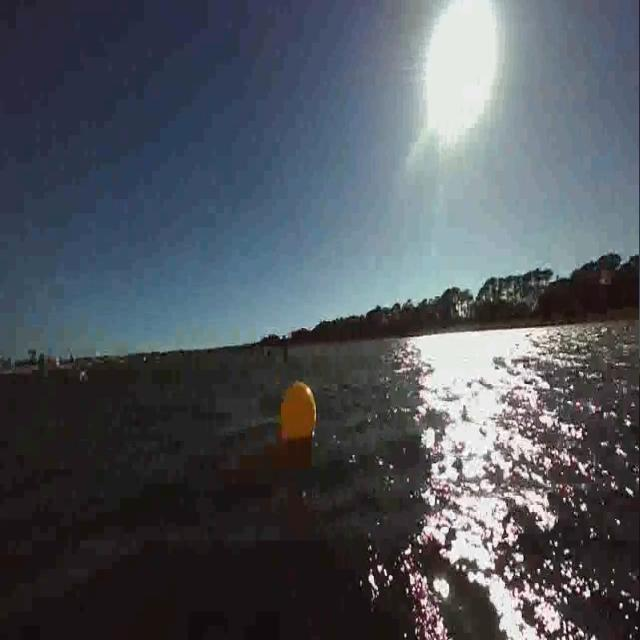yellow-buoy: (280, 382, 317, 443)
